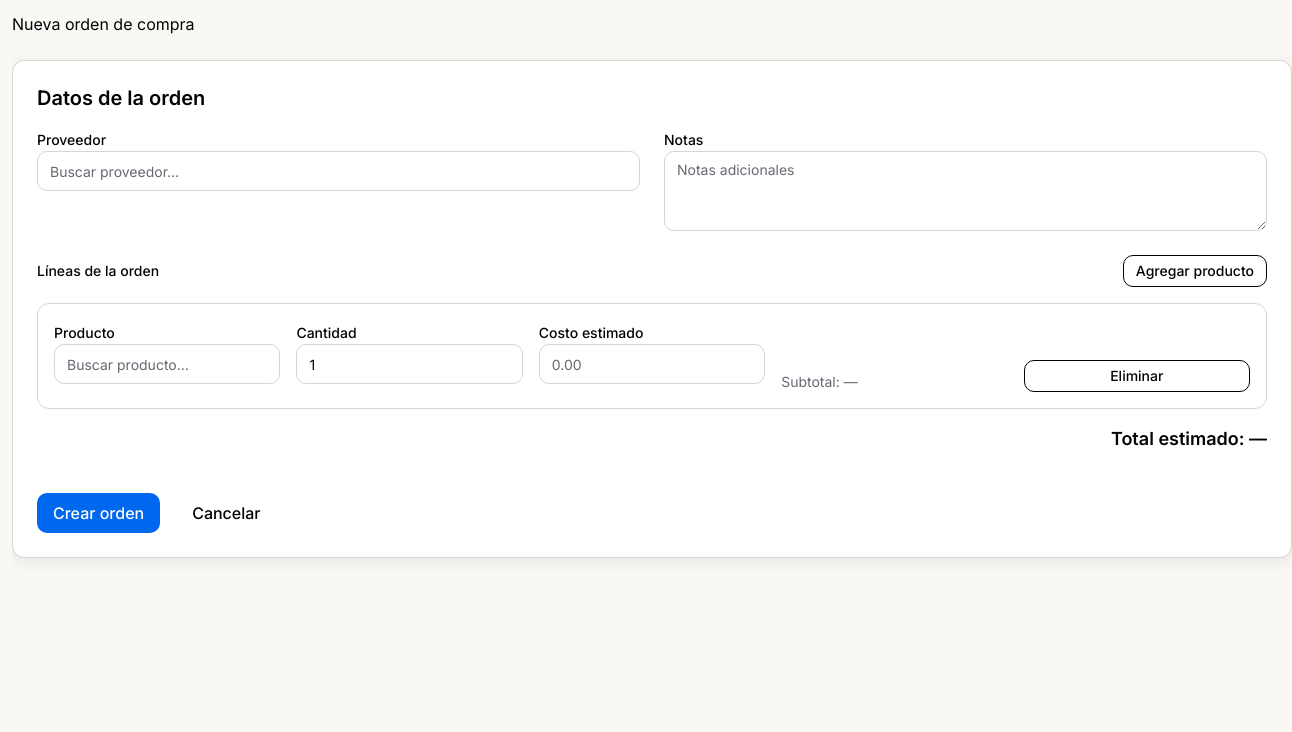
Test case: PurchaseOrderFormPage — create mode › shows validation errors when submitting the empty form
Check: the dropdown labelled "Proveedor" is shown, box x1=37 y1=151 x2=640 y2=191
What coordinates should you click on to do the following:
click the button "Crear orden"
I would click on:
 (99, 513)
Its box is x1=37 y1=493 x2=160 y2=533.
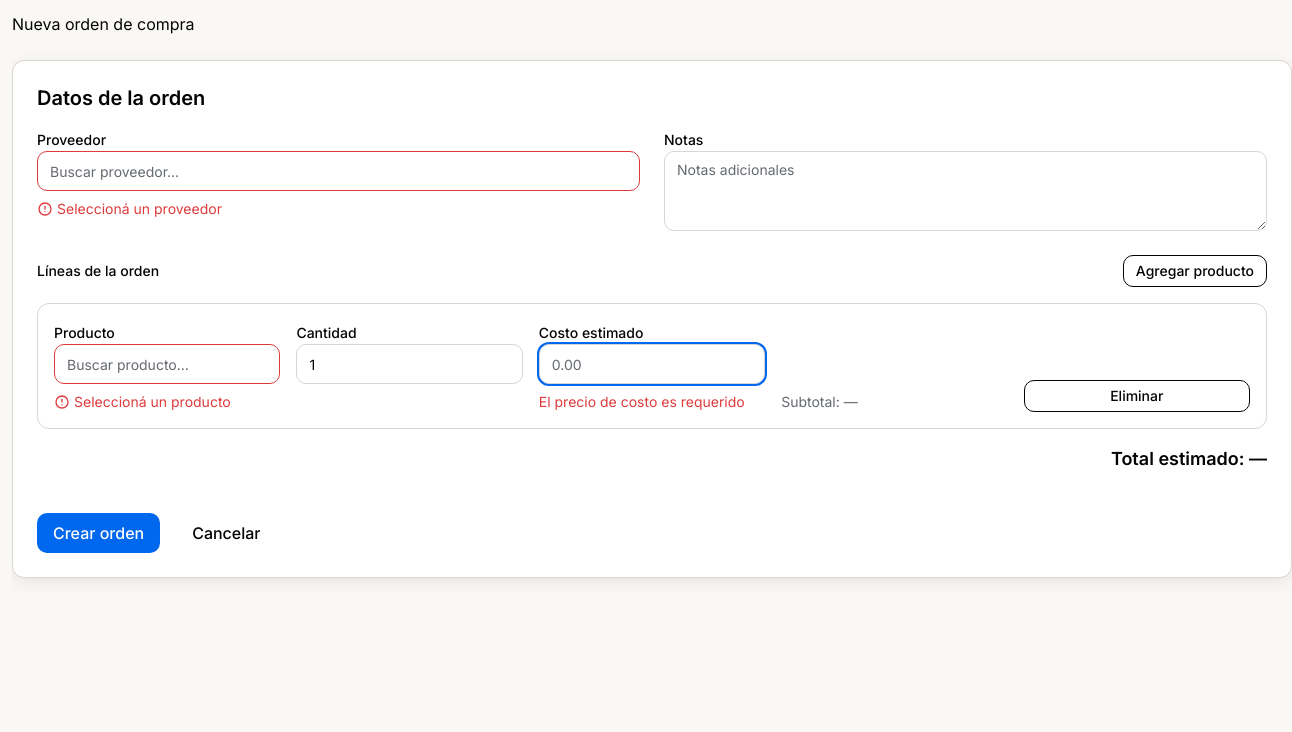
Check: the text "Seleccioná un proveedor" is shown, box x1=37 y1=200 x2=222 y2=217
Check: the text "Seleccioná un producto" is shown, box x1=54 y1=393 x2=231 y2=410
Check: the text "El precio de costo es requerido" is shown, box x1=539 y1=392 x2=765 y2=412
